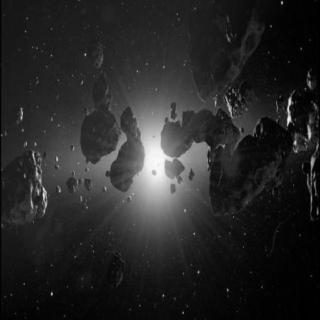other: (142, 143, 176, 191)
